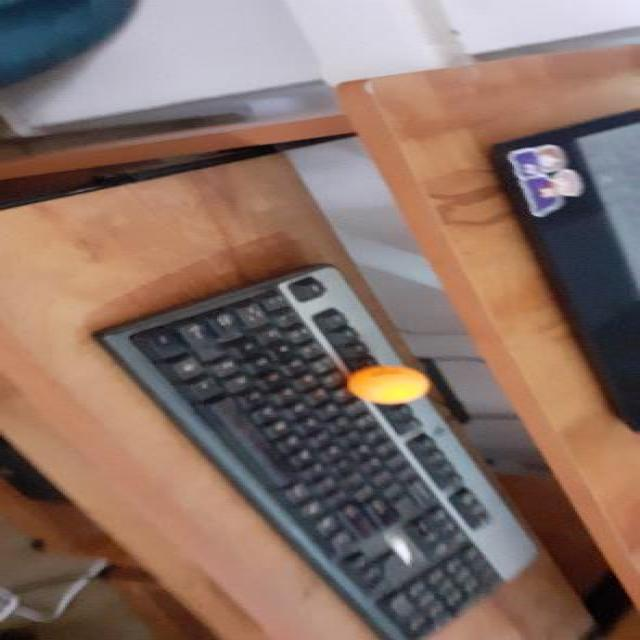ping-pong-ball: (349, 367, 421, 403)
